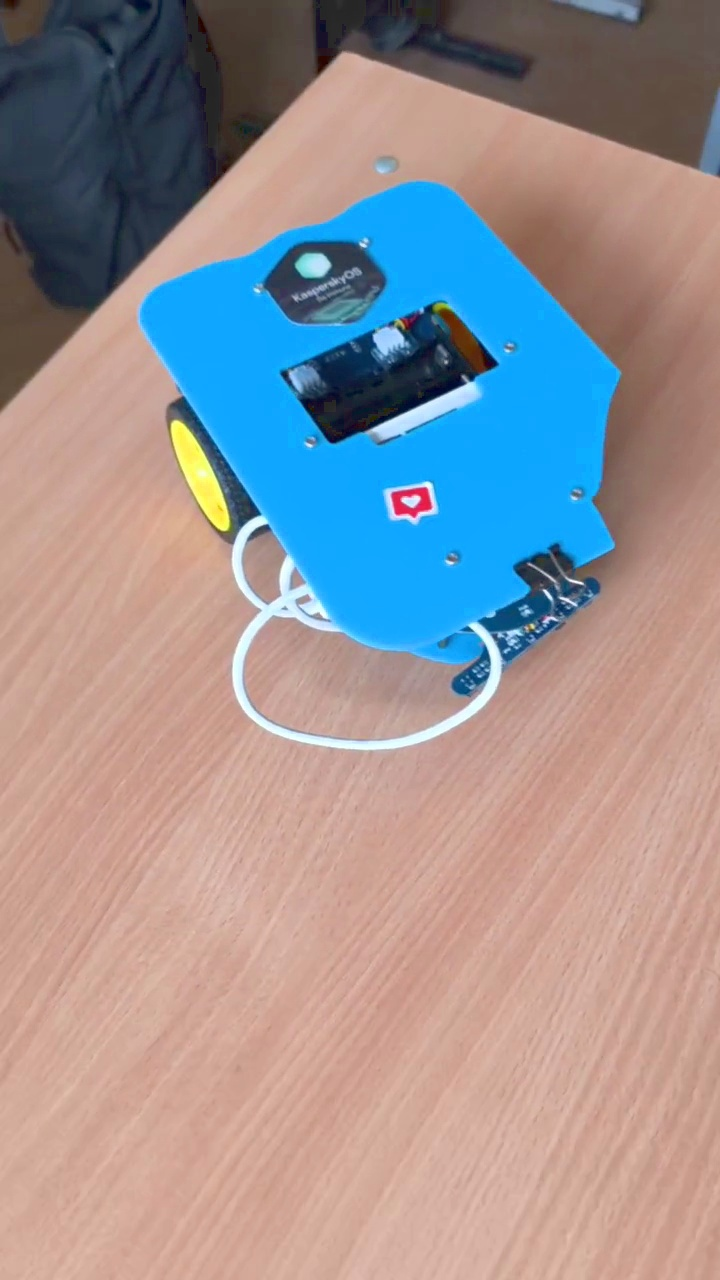robot: (136, 179, 626, 752)
